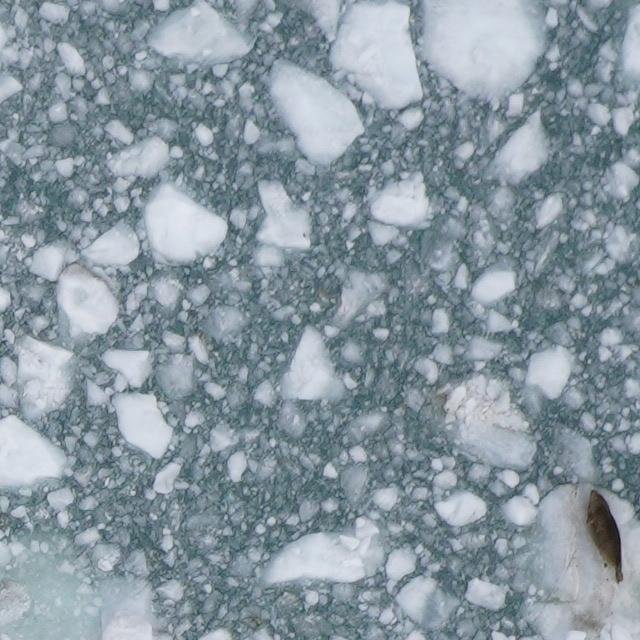seal: (581, 485, 627, 588)
